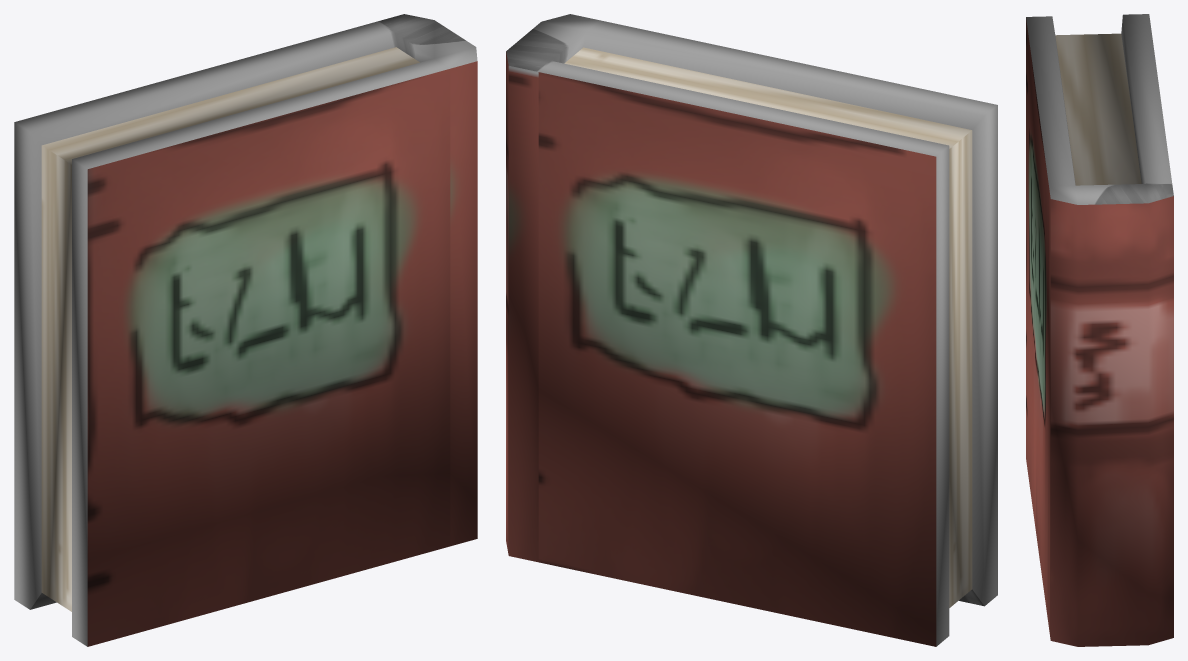
The model's file is Livro3.fbx.
The picture shows the model from 3 angles, left to right: view 1: azimuth 30°, elevation 25°; view 2: azimuth 150°, elevation 25°; view 3: azimuth 270°, elevation 25°; orthographic projection. The views are drawn at different scales.
Visible parts, largest first — view 1: Livro3; view 2: Livro3; view 3: Livro3.
Boxes of the visible parts, x1,y1,x2,y2 form: Livro3: (14, 14, 477, 646); Livro3: (506, 14, 997, 646); Livro3: (1026, 14, 1173, 646).
Size of the model in its own units: 50.37 by 16.48 by 54.32.
